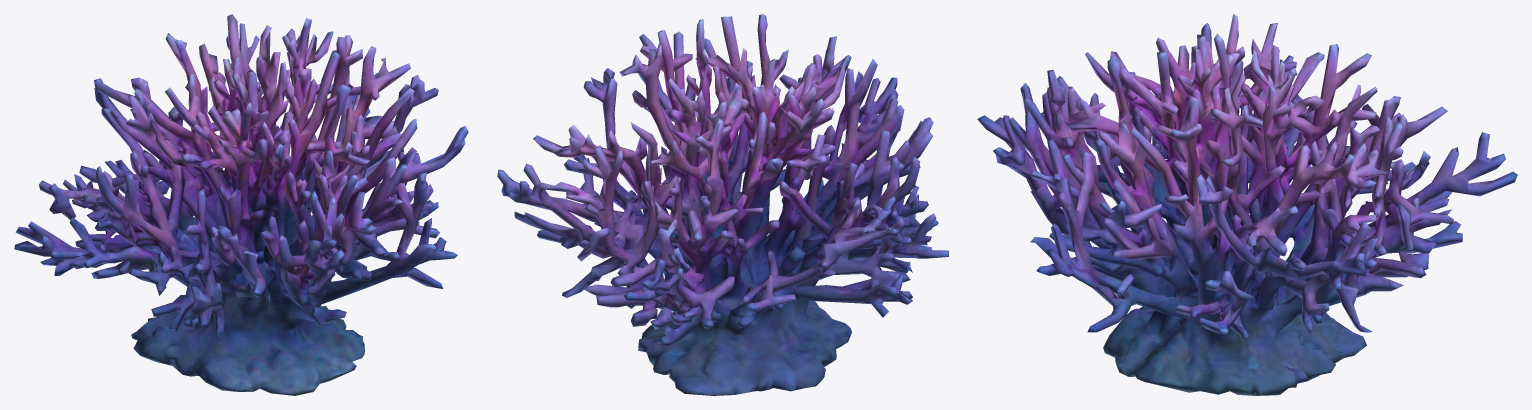
The model's file is coralpurple.glb.
3 views of the same model, side by side, from view 1: azimuth 30°, elevation 25°; view 2: azimuth 150°, elevation 25°; view 3: azimuth 270°, elevation 25° (orthographic). The views are drawn at different scales.
Size of the model in its own units: 1.8 by 1.4 by 1.99.
1 material, 1 textured.
